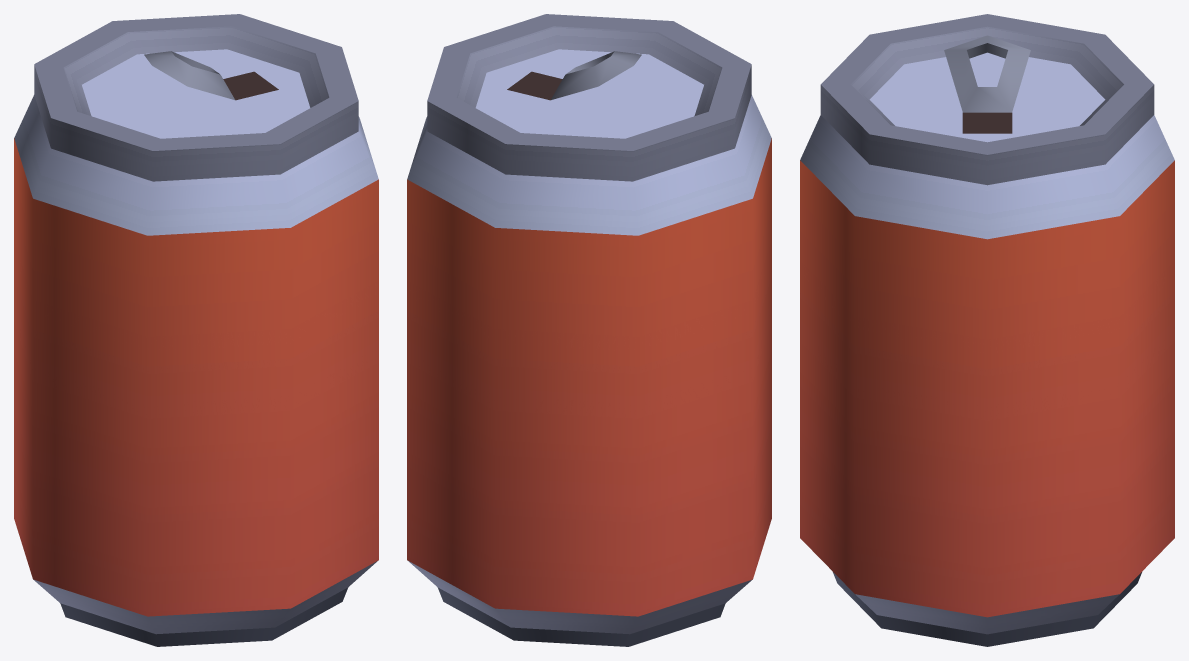
3 views of the same model, side by side, from view 1: azimuth 30°, elevation 25°; view 2: azimuth 150°, elevation 25°; view 3: azimuth 270°, elevation 25° (orthographic).
Visible parts, largest first — view 1: soda-can; view 2: soda-can; view 3: soda-can.
Part boxes in pixels (left/top/right/bottom): soda-can: left=14, top=14, right=378, bottom=646; soda-can: left=407, top=14, right=771, bottom=646; soda-can: left=800, top=14, right=1174, bottom=646.
Bounding box in the file's own units: 0.0942 × 0.147 × 0.0942.
Materials: 1 (1 with a texture image).
